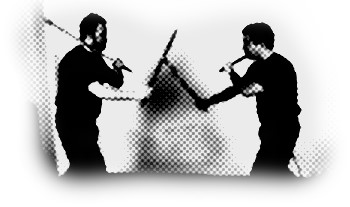baston_e: (143, 37, 168, 94), (168, 64, 201, 99)
baston_v: (190, 95, 213, 117), (134, 94, 156, 112), (161, 51, 173, 72), (242, 50, 257, 65), (170, 22, 184, 38), (213, 61, 227, 77), (41, 15, 54, 30)
